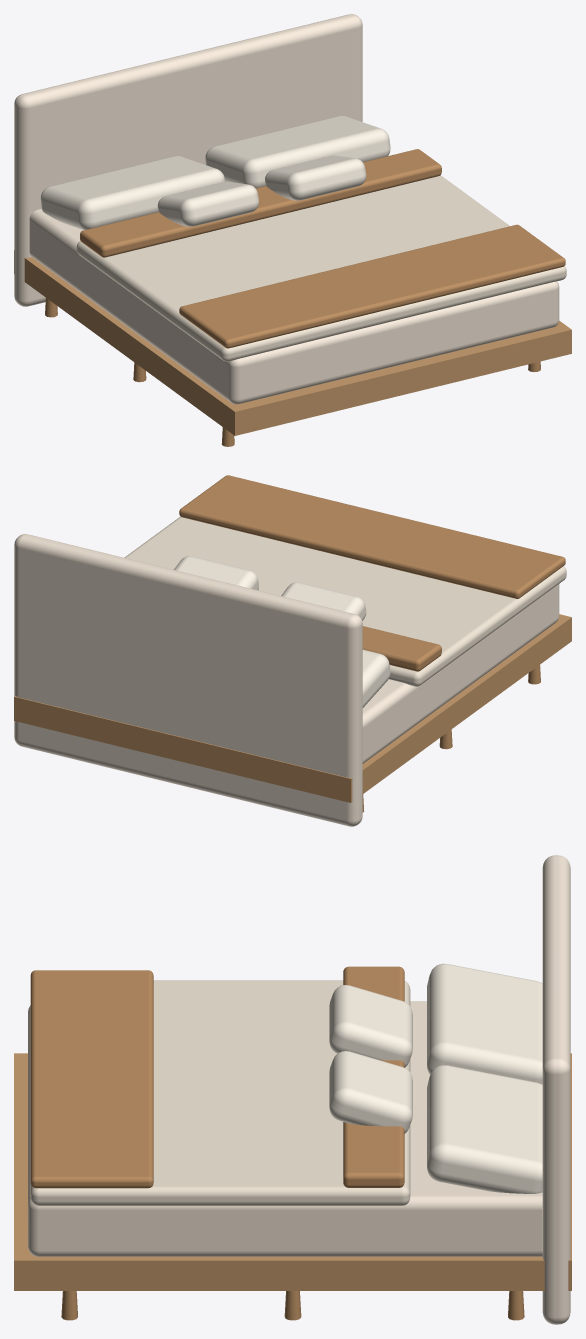
File: bed.glb
3 views of the same model, one above another, from view 1: azimuth 30°, elevation 25°; view 2: azimuth 150°, elevation 25°; view 3: azimuth 270°, elevation 25° (orthographic). The views are drawn at different scales.
Parts seen in each view (by area): view 1: material-2-upholstery, material-3-fabric, material-5-accent, material-4-cushion, material-1-frame, material-0-leg; view 2: material-2-upholstery, material-5-accent, material-3-fabric, material-1-frame, material-4-cushion, material-0-leg; view 3: material-2-upholstery, material-3-fabric, material-4-cushion, material-5-accent, material-1-frame, material-0-leg.
Part boxes in pixels (bbox=[...]): material-2-upholstery: bbox=[14, 14, 559, 404]; material-3-fabric: bbox=[76, 175, 566, 361]; material-5-accent: bbox=[80, 149, 565, 348]; material-4-cushion: bbox=[40, 116, 390, 230]; material-1-frame: bbox=[14, 250, 571, 435]; material-0-leg: bbox=[45, 298, 540, 446]; material-2-upholstery: bbox=[14, 534, 559, 826]; material-5-accent: bbox=[179, 475, 565, 671]; material-3-fabric: bbox=[124, 516, 566, 686]; material-1-frame: bbox=[14, 614, 571, 802]; material-4-cushion: bbox=[174, 556, 390, 707]; material-0-leg: bbox=[362, 665, 540, 812]; material-2-upholstery: bbox=[28, 855, 570, 1324]; material-3-fabric: bbox=[30, 980, 410, 1205]; material-4-cushion: bbox=[329, 963, 542, 1193]; material-5-accent: bbox=[30, 966, 404, 1188]; material-1-frame: bbox=[14, 1053, 571, 1290]; material-0-leg: bbox=[61, 1291, 524, 1320].
Size of the model in its own units: 1.8 by 1.05 by 2.
